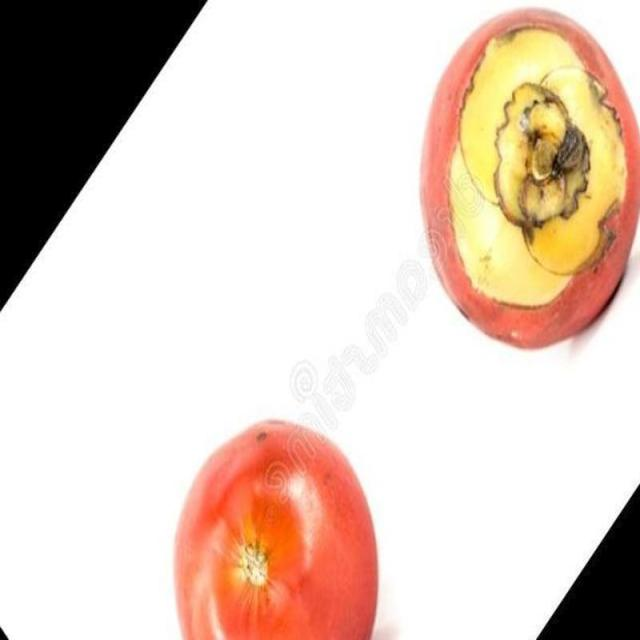good: (419, 10, 639, 351), (172, 420, 380, 639)
